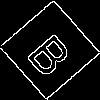B: (25, 25, 81, 81)
